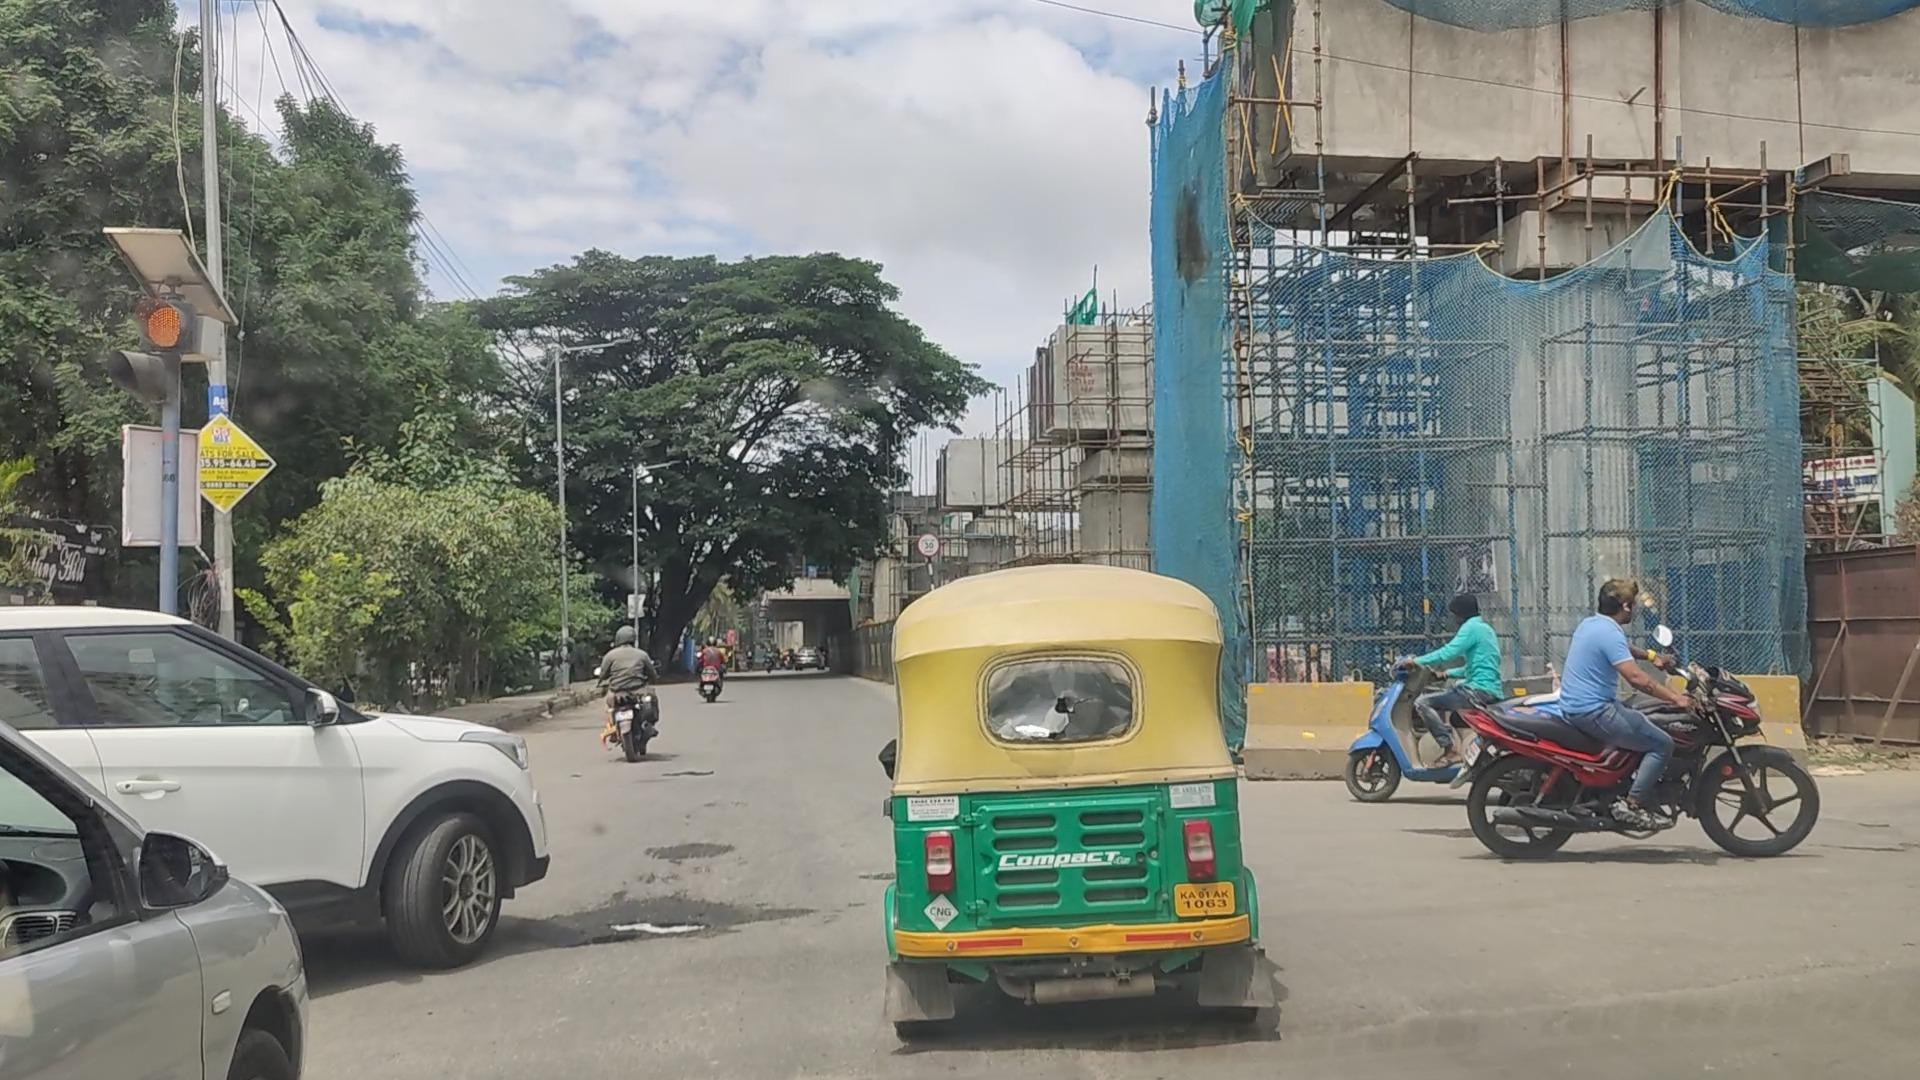LMV: (886, 560, 1273, 1048), (1498, 587, 1784, 861), (1353, 592, 1539, 812)
RoadDamages: (567, 884, 721, 969)
